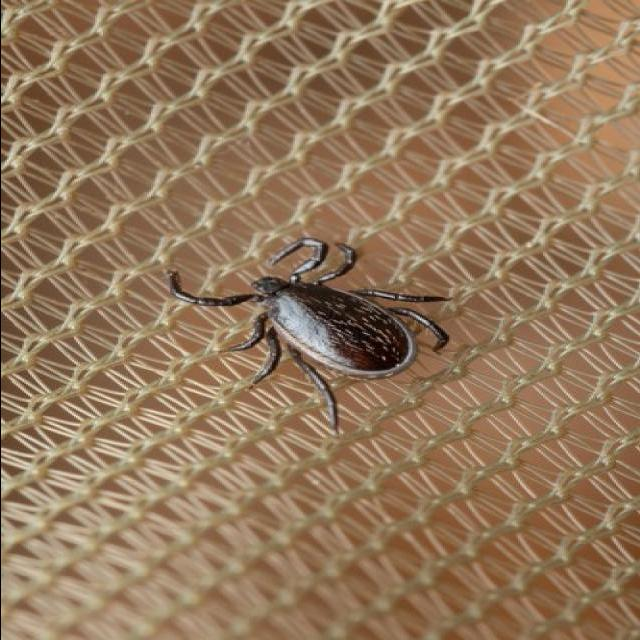Ixodes Ricinus-M: (169, 237, 452, 434)
